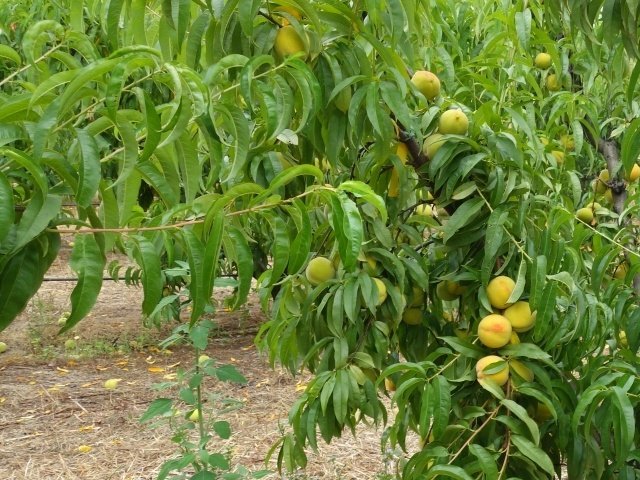peach: (272, 23, 311, 65), (476, 311, 514, 351), (472, 353, 511, 391), (503, 296, 539, 336), (484, 274, 521, 311), (435, 107, 471, 142), (407, 68, 443, 98), (304, 255, 336, 288), (502, 357, 536, 387), (418, 132, 452, 161), (432, 280, 455, 307), (405, 287, 429, 312), (400, 306, 426, 329), (574, 205, 595, 230), (532, 50, 554, 72), (543, 70, 561, 94), (588, 176, 607, 196), (598, 165, 615, 183)
